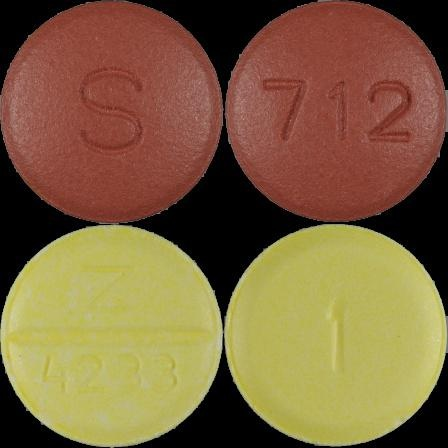63629-4947: (0, 0, 224, 224)
